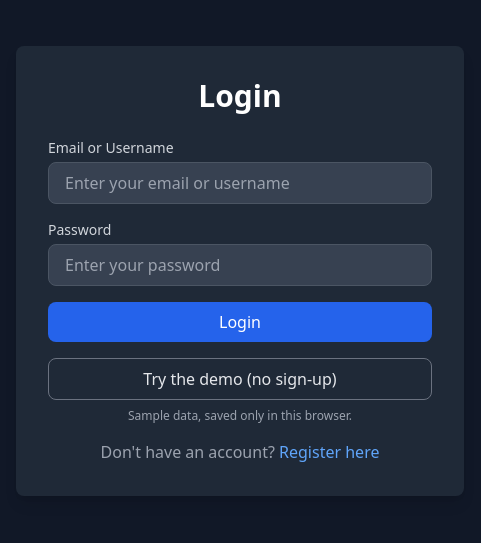
it: Login › shows the API's message and stays on the page when the password is wrong
Step 1. Type "alice" into the field labelled "Email or Username" → coordinates (240, 183), box [48,162,432,204]
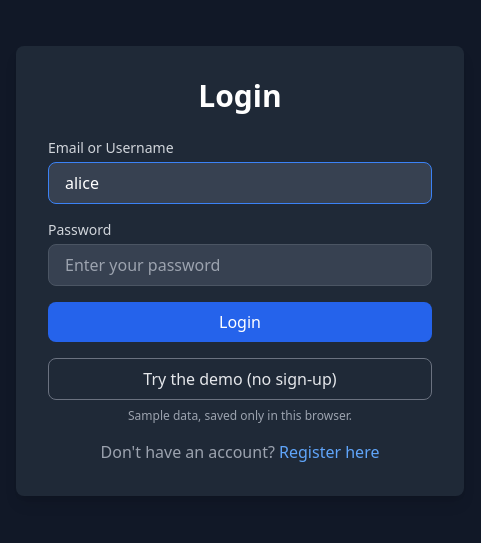
Step 2. Type "wrong-password" into the password field labelled "Password" → coordinates (240, 265), box [48,244,432,286]
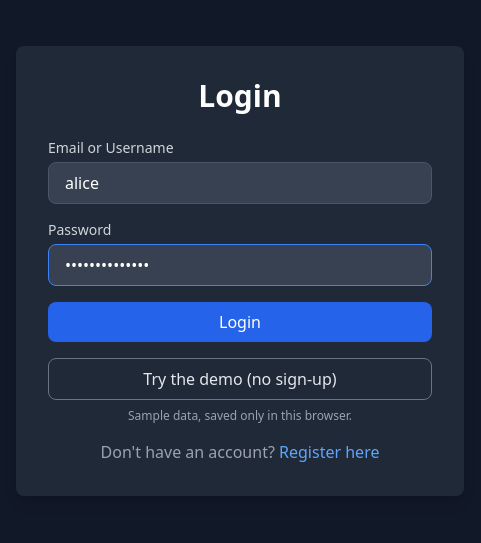
Step 3. Click the button "Login" → coordinates (240, 322), box [48,302,432,342]
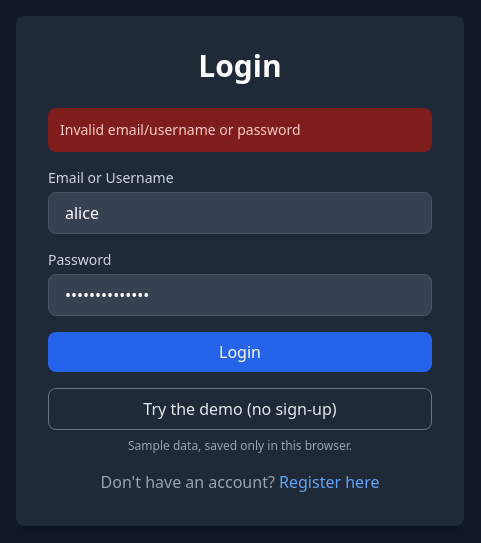
Expected: the text "Invalid email/username or password" is shown, [48,108,432,152]
